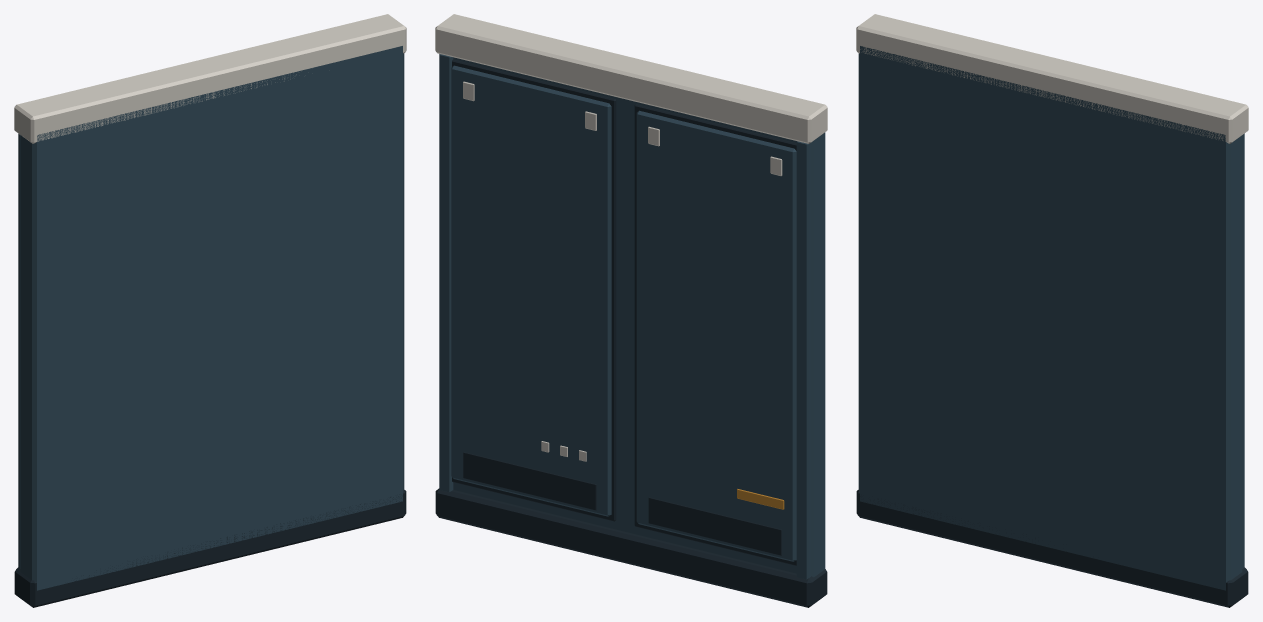
The model's file is arena-wall.glb.
3 views of the same model, side by side, from view 1: azimuth 30°, elevation 25°; view 2: azimuth 150°, elevation 25°; view 3: azimuth 330°, elevation 25° (orthographic).
Parts seen in each view (by area): view 1: arena-wall; view 2: arena-wall; view 3: arena-wall.
Part boxes in pixels (<box>): arena-wall: <box>14,14,406,607</box>; arena-wall: <box>435,14,827,607</box>; arena-wall: <box>856,14,1248,607</box>.
Bounding box in the file's own units: 4 × 5 × 0.35.
